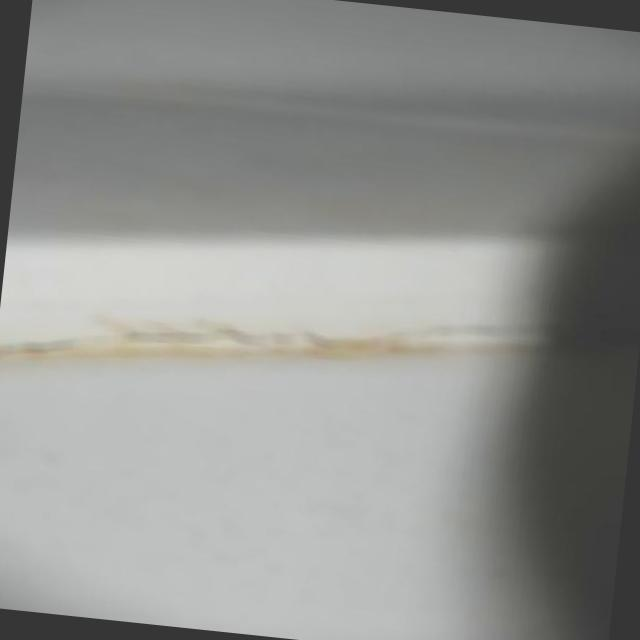crack: (132, 312, 256, 351), (418, 312, 536, 342), (299, 333, 398, 359), (0, 333, 73, 361)
